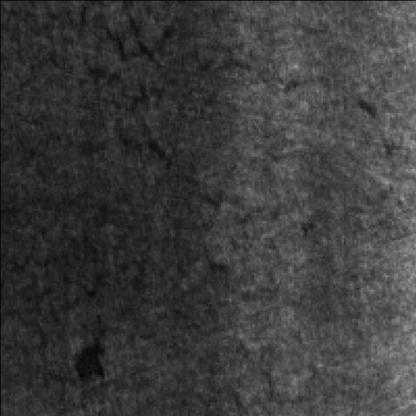crazing: (0, 7, 254, 167), (0, 176, 231, 350)
